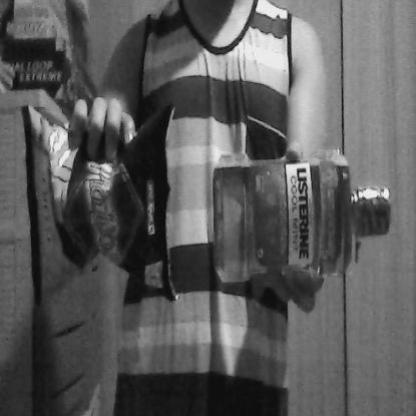Plastic Bottle: (204, 134, 399, 302)
